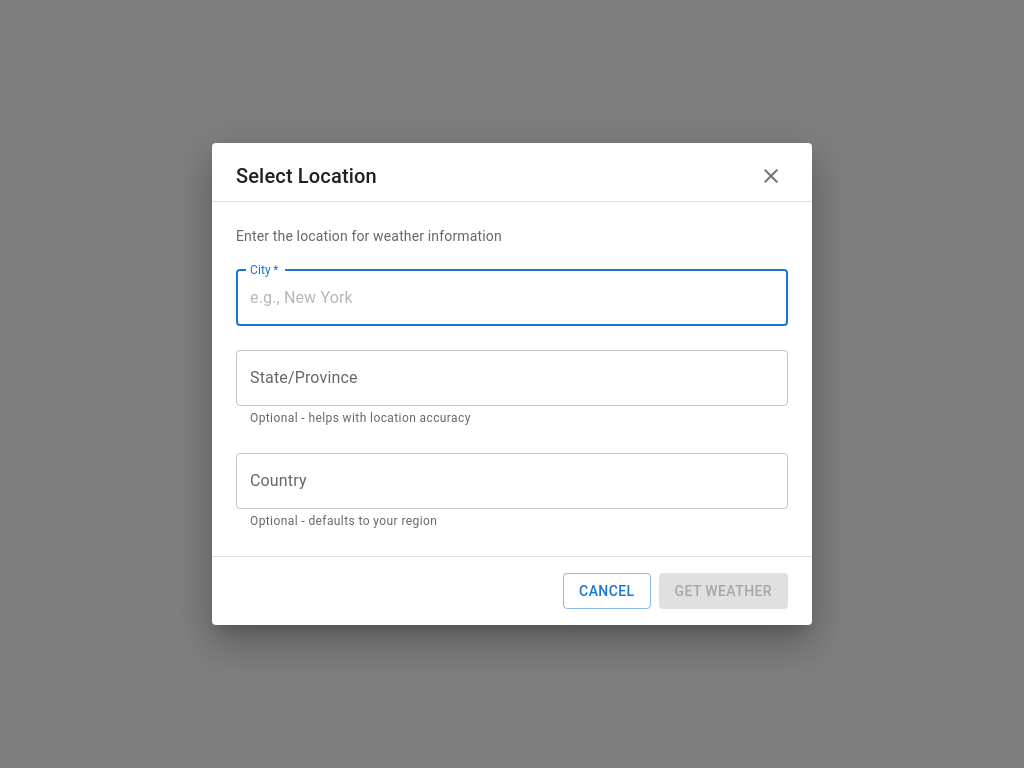
Test case: CitySelectionDialog › Form Validation › should show city minimum length error
The image size is (1024, 768).
Type "A" into the field labelled "City *" at (512, 298), box [236,270,788,326]
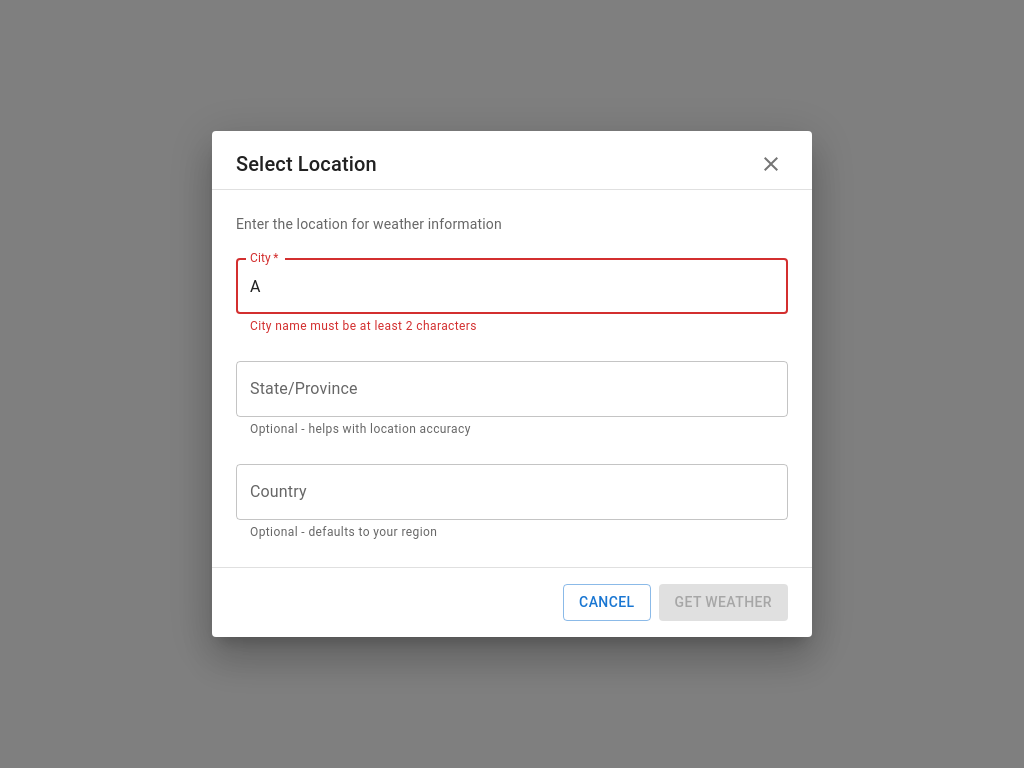
Expected: the text "City name must be at least 2 characters" is shown, [250,319,477,333]
